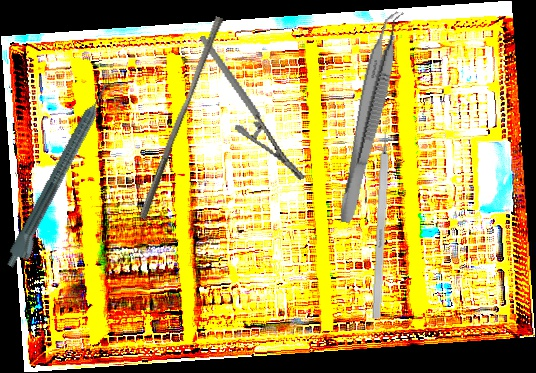Handpiece: (3, 81, 120, 274)
Hook Surgical: (371, 116, 392, 319)
Needle Holder: (199, 19, 306, 196)
Pusher: (138, 13, 225, 223)
Tissue Forceps: (336, 7, 407, 227)
